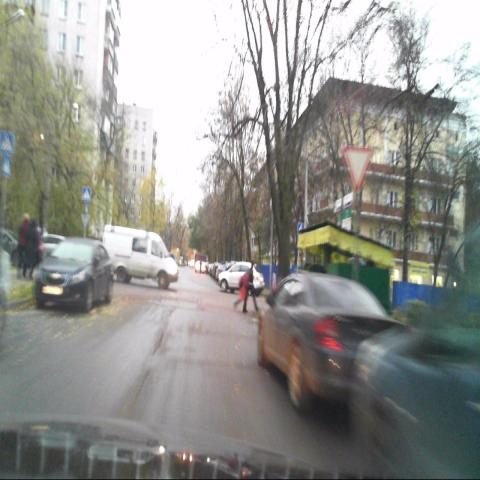2_4: (343, 145, 374, 195)
5_19_1: (0, 132, 12, 154), (82, 184, 91, 201)
